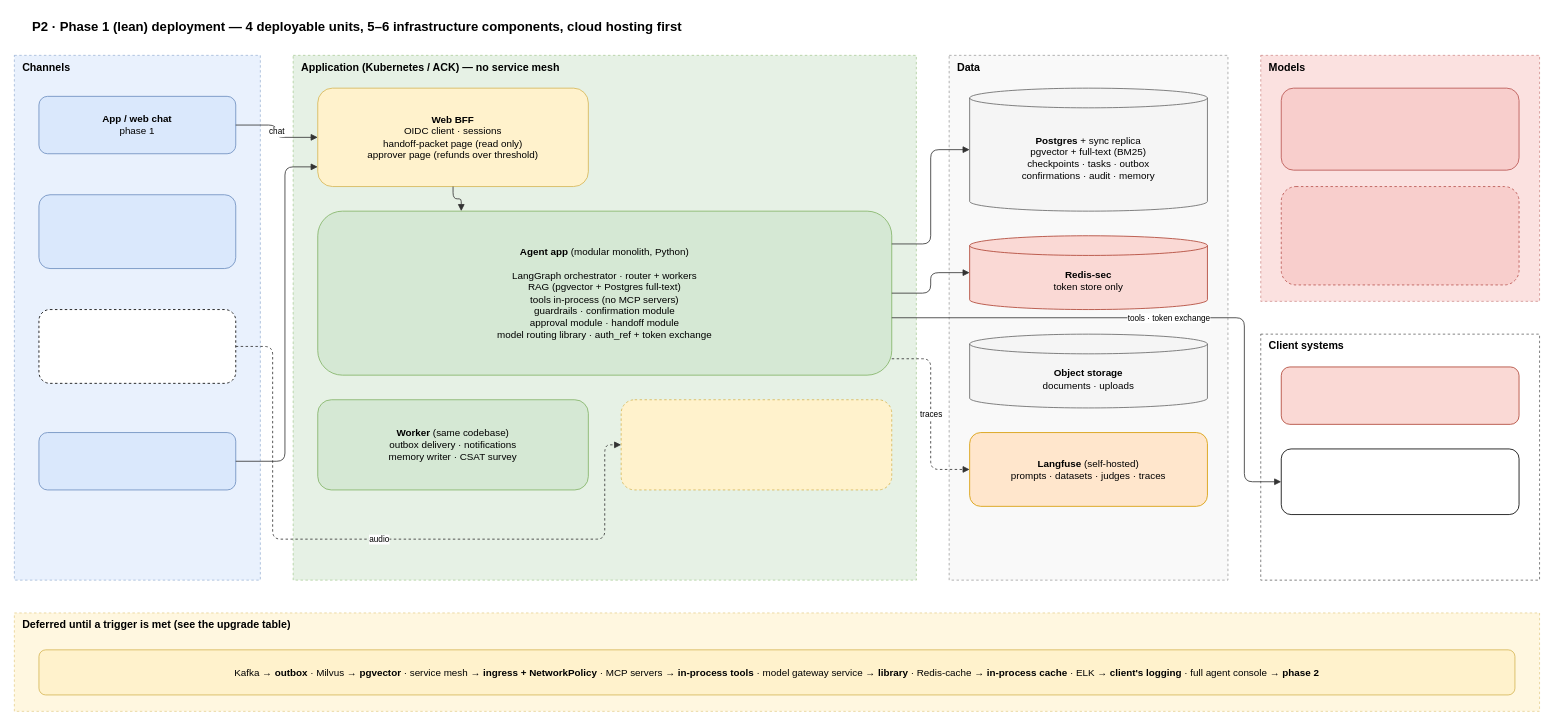
Some shapes in this 1554 by 726 pixel diagram are drawn without their labels. Here are the shapes that lost their labels. From the top down, the centre of each, then its label:
At point (1399, 128): "Cloud (first choice) Bailian: Qwen · speech no GPUs".
At point (137, 231): "Human chat client's existing live chat or Genesys messaging".
At point (1399, 235): "On-prem vLLM: chat 3–4 GPUs + 2–4 for speech in 1b DR not doubled".
At point (137, 346): "Genesys voice phase 1b ≤ 30 concurrent AI calls".
At point (1399, 395): "IdP OIDC · token exchange".
At point (137, 461): "Staff approvers · agents".
At point (756, 444): "Voice gateway phase 1b AudioConnector · VAD · STT / TTS".
At point (1399, 481): "Internal API gateway → systems of record (mTLS)".
